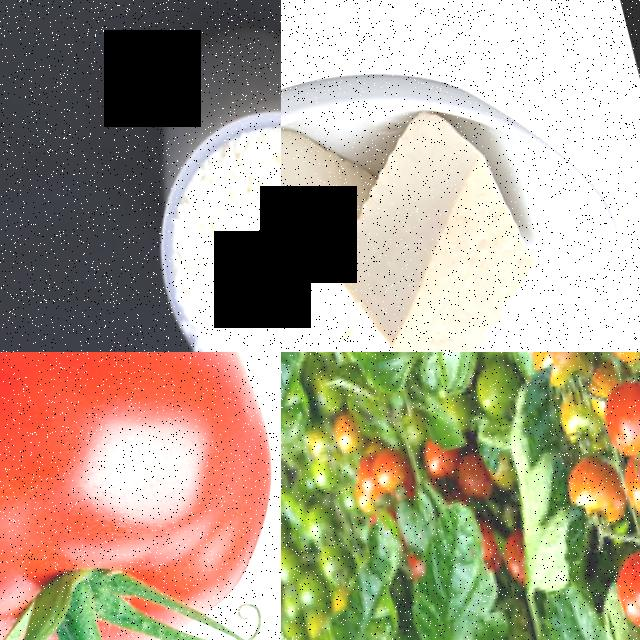tofu: (308, 93, 573, 352), (281, 121, 361, 352)
tomato: (0, 352, 281, 640), (593, 371, 640, 464), (530, 352, 605, 405), (609, 540, 640, 640)
white rice: (139, 97, 281, 352)
